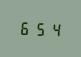five: (33, 19, 46, 37)
four: (47, 20, 60, 38)
six: (18, 18, 31, 36)
